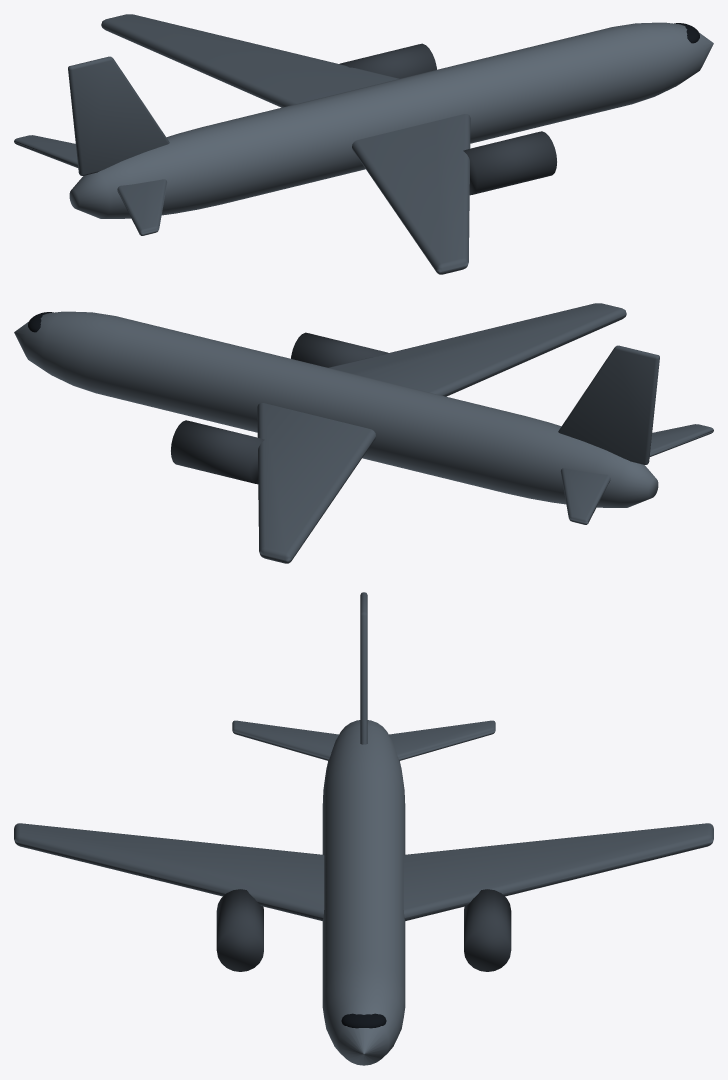
The model's file is airliner_mil.glb.
3 renders of one model, top to bottom at view 1: azimuth 30°, elevation 25°; view 2: azimuth 150°, elevation 25°; view 3: azimuth 270°, elevation 25°, orthographic. The views are drawn at different scales.
Visible parts, largest first — view 1: fus, wing, fin, eng1, stab, eng-1; view 2: fus, wing, fin, eng-1, stab, eng1; view 3: wing, fus, stab, eng1, eng-1, fin.
Part boxes in pixels (x1,y1,x2,y2): fus: (69, 22, 713, 218); wing: (101, 14, 470, 274); fin: (68, 56, 169, 175); eng1: (463, 131, 556, 195); stab: (14, 135, 167, 235); eng-1: (339, 43, 436, 78); fus: (14, 311, 658, 507); wing: (257, 303, 626, 563); fin: (558, 345, 659, 464); eng-1: (171, 420, 264, 484); stab: (560, 424, 713, 524); eng1: (291, 332, 388, 367); wing: (14, 823, 713, 920); fus: (322, 720, 405, 1065); stab: (232, 720, 495, 760); eng1: (216, 889, 263, 971); eng-1: (464, 889, 511, 971); fin: (360, 592, 367, 744).
Bounding box in the file's own units: 37.34 × 9.4 × 34.
